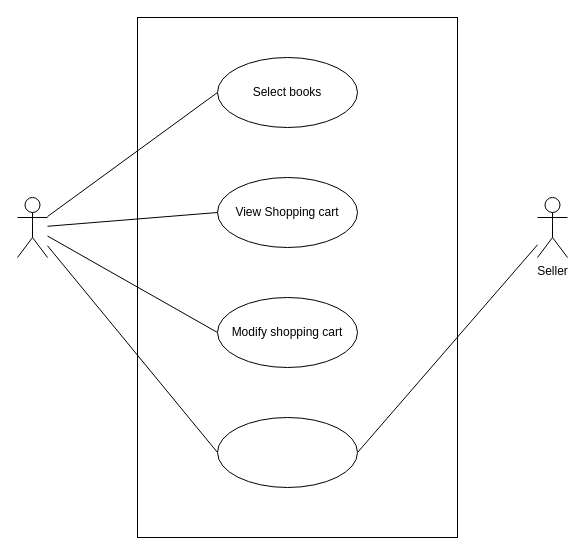
Image size: 585x555. Some labels were removed from this diagram. Each missing label, with the centre of its shape:
Purchase: [287,452]
User: [32,227]
